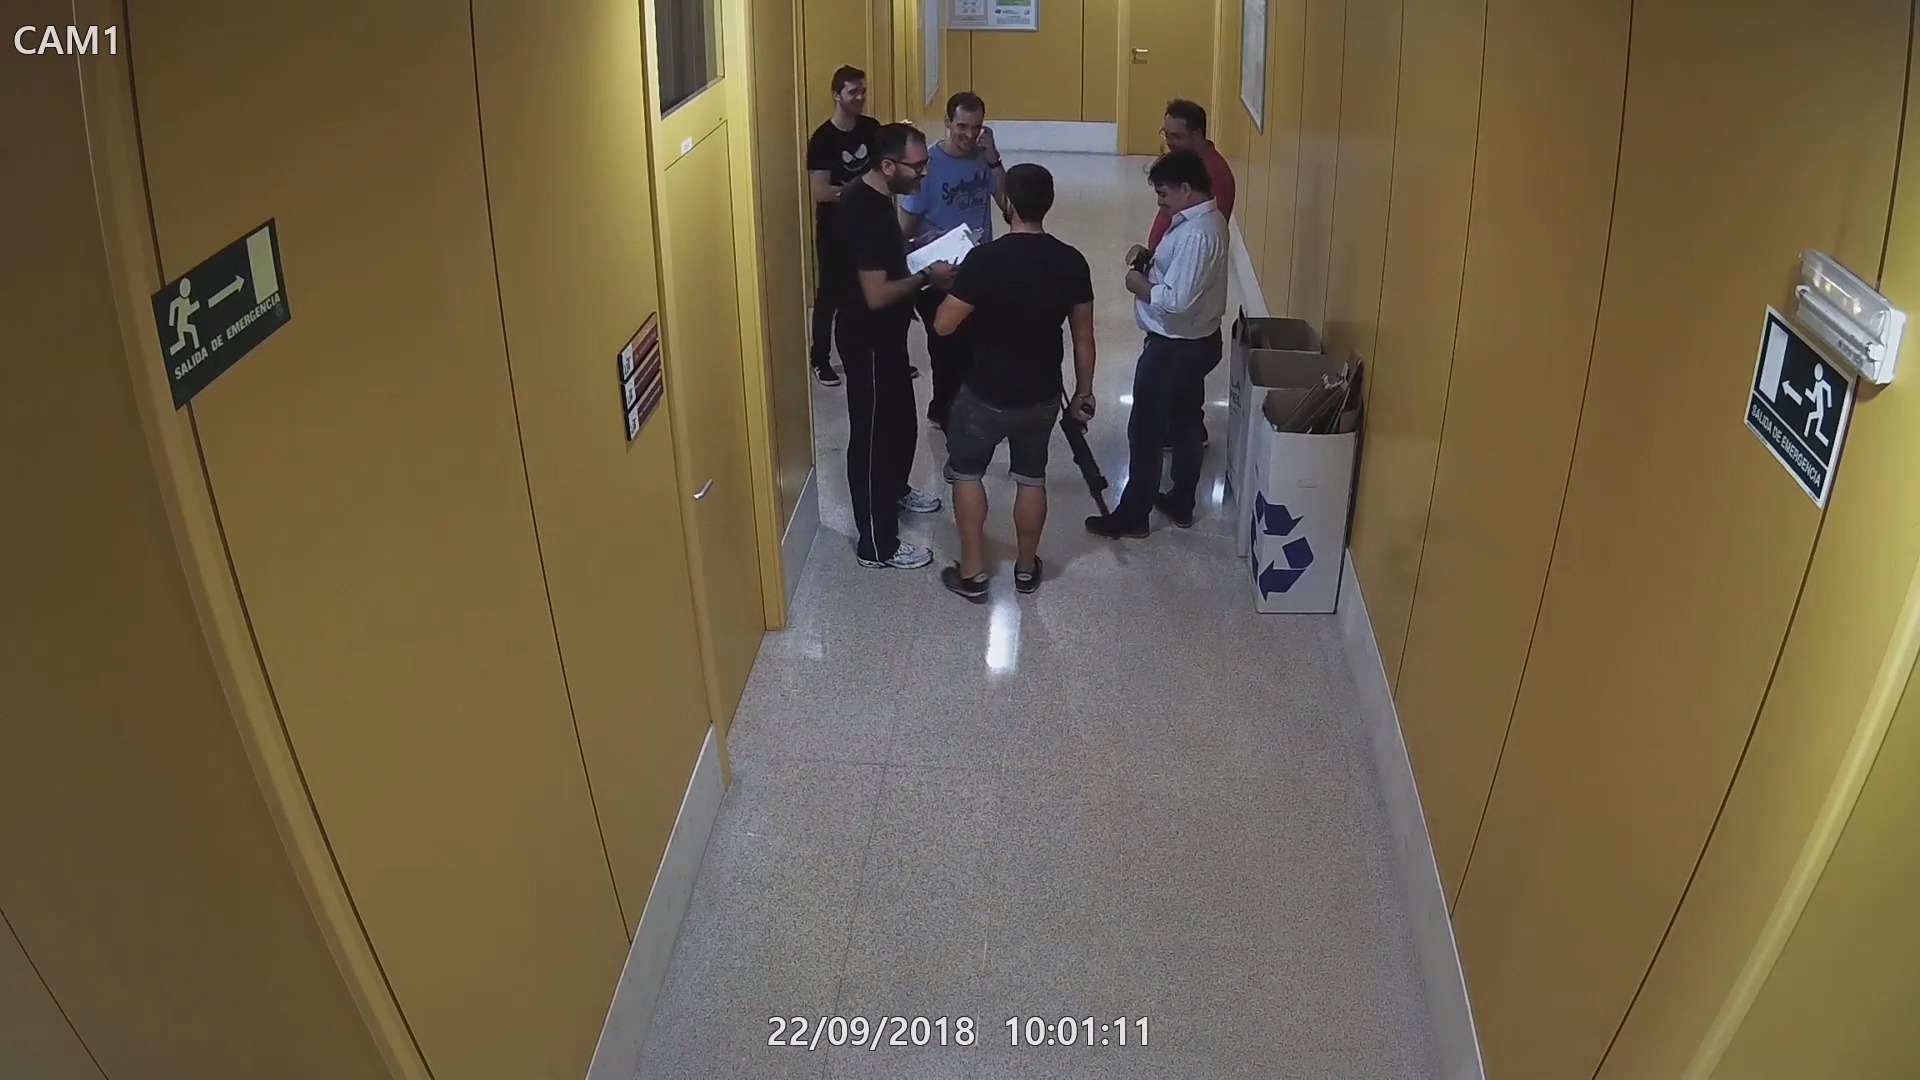Handgun: (1126, 244, 1153, 294)
Short_rifle: (1056, 397, 1120, 541)
